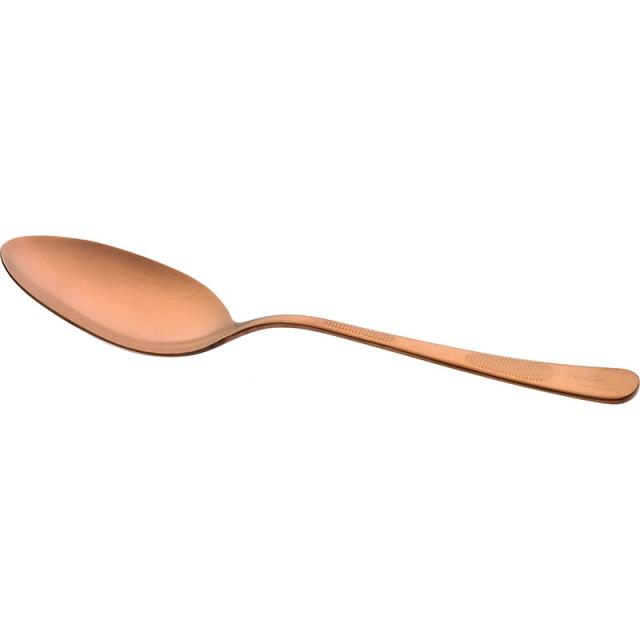spoon: (0, 203, 640, 427)
